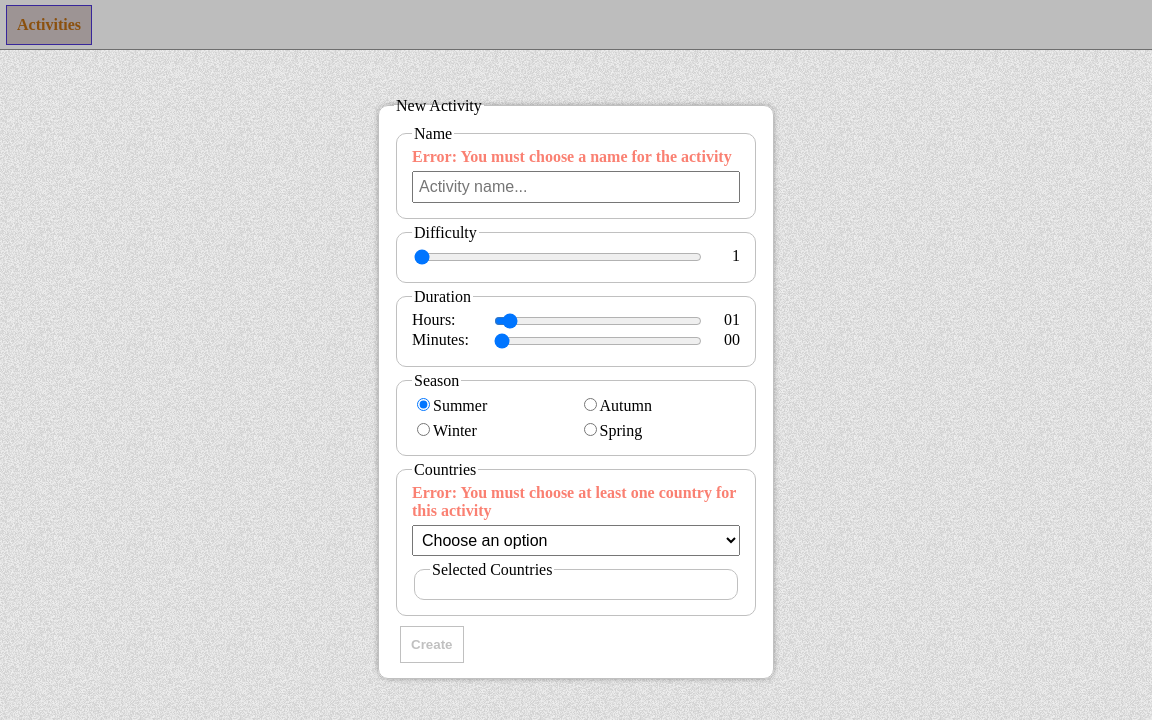
Test case: Displaying errors: › Error messages on countries selection area › Does not show any error message when there is at least one country selected
This screenshot has width=1152, height=720.
Select "Ecuador" in the dropdown named "countries-list" at {"x": 576, "y": 540}, box [412,524,740,556]
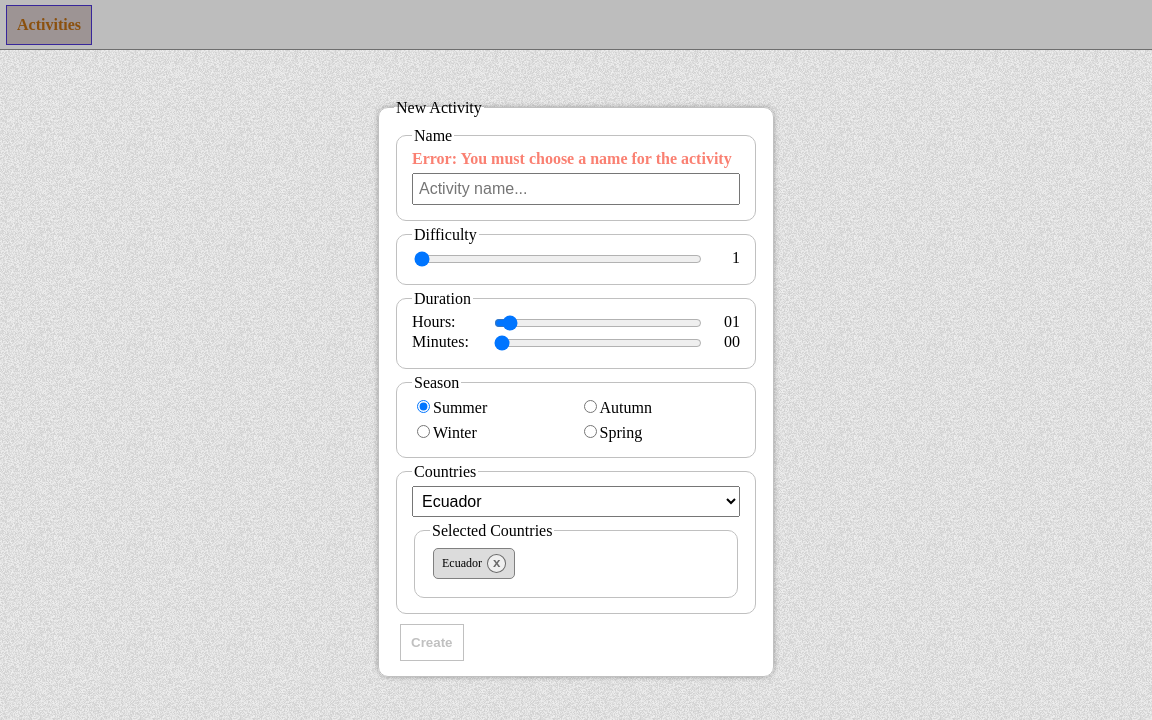
Check: the text "Ecuador" is shown, box [442,556,482,570]
Check: the text "You must choose at least one country for this activity" is gone
